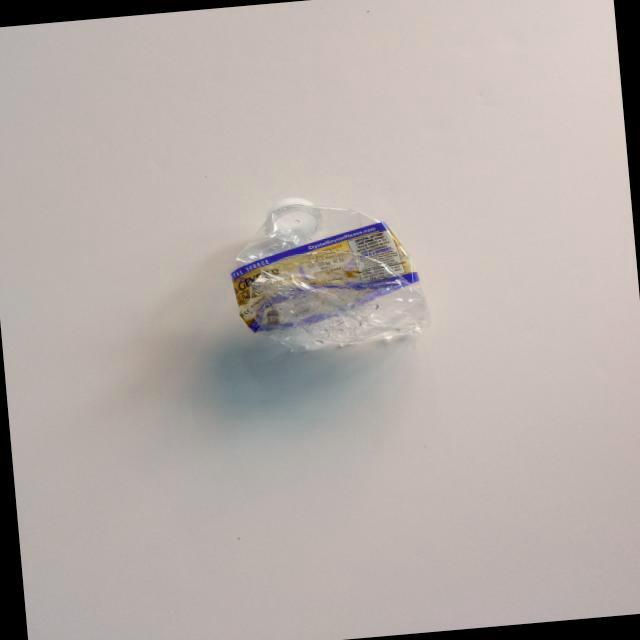plastic: (213, 180, 444, 382)
